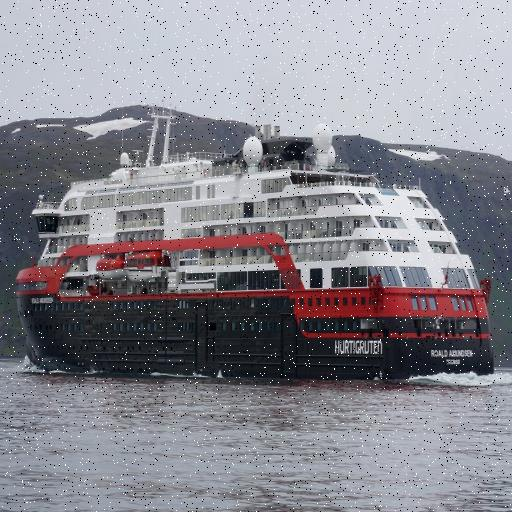cruises: (13, 94, 498, 392)
